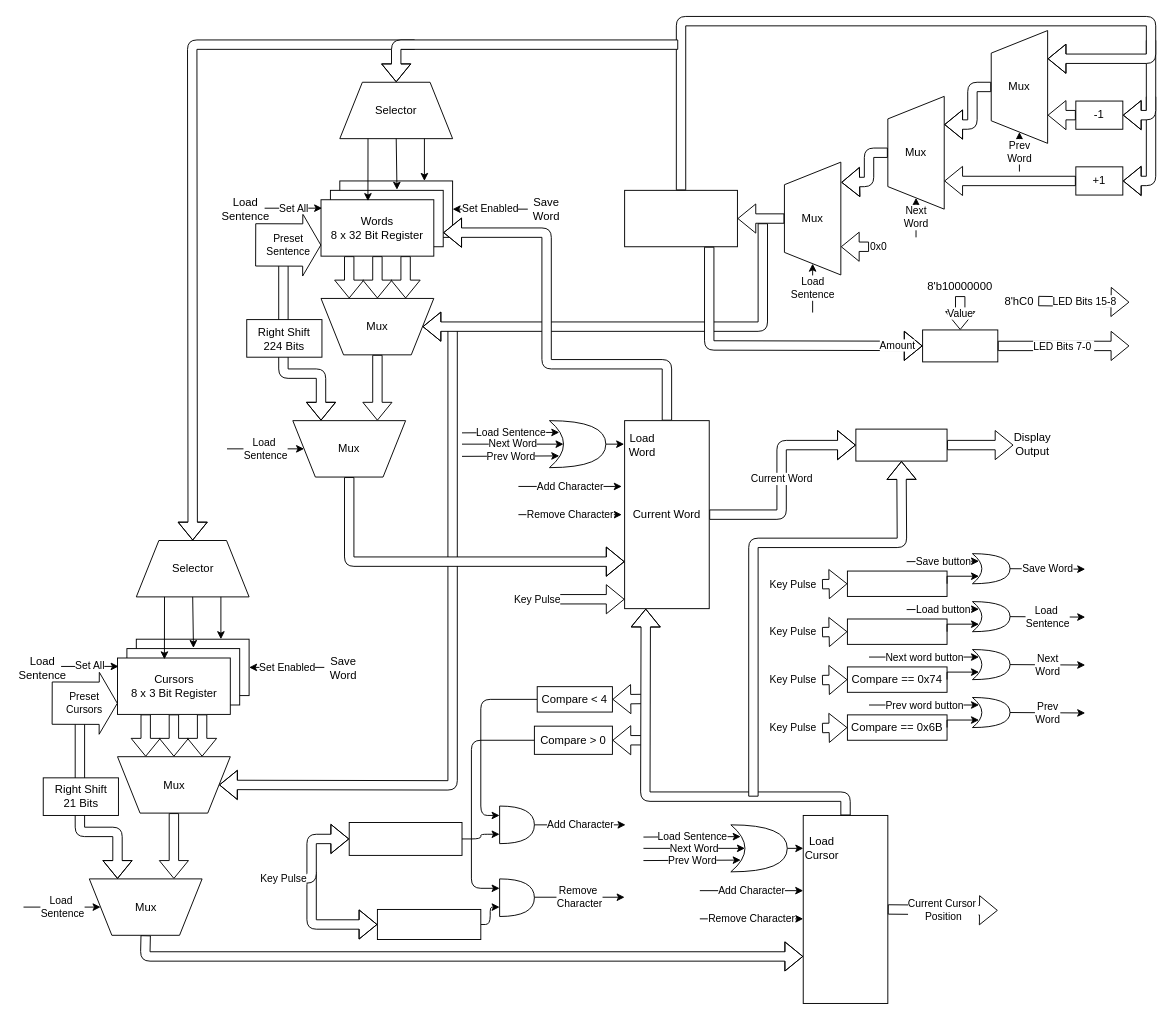
The diagram is 1172 pixels wide and 1020 high, and some of its shapes have lost their labels. Each missing label, with the box of its shape:
Compare == 0x66: (376, 909, 481, 940)
Compare == 0x72: (846, 618, 947, 644)
Compare == 0x75: (846, 570, 947, 596)
Current Cursor: (802, 815, 888, 1003)
Cursor Indicator: (855, 428, 947, 461)
Is Recognised Key: (348, 822, 462, 855)
Right Shift: (922, 329, 998, 362)
Word Index 3 Bit Register: (624, 189, 737, 247)
